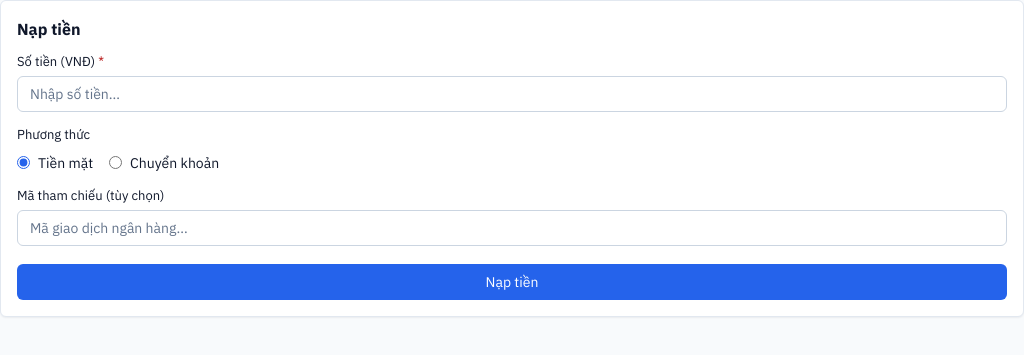
TopupForm — amount validation › rejects amount greater than 1_000_000_000
Type "1000000001" into the number field.
click(512, 94); type("1000000001")  # box [17, 76, 1007, 112]
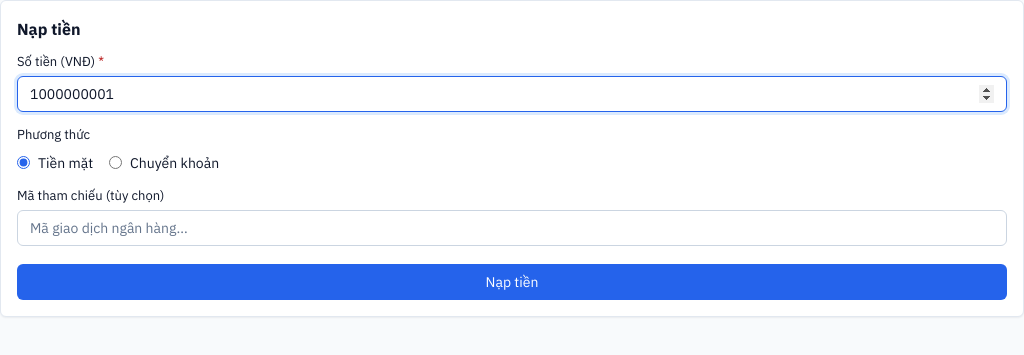
Click the button "Nạp tiền".
click(512, 282)  # box [17, 264, 1007, 300]
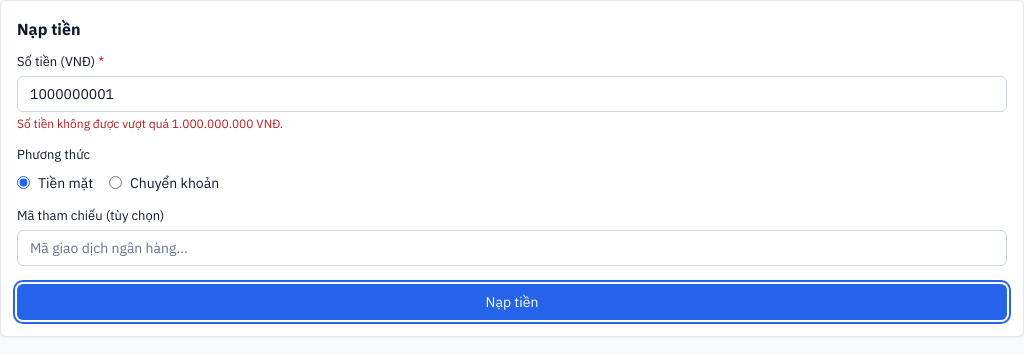
Expected: the text "Số tiền không được vượt quá 1.000.000.000 VNĐ." is shown, [17, 116, 283, 131]
